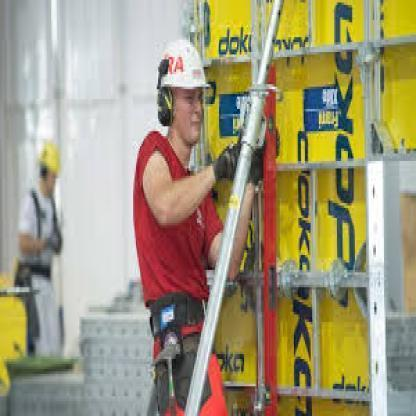helmet: (158, 40, 210, 90)
